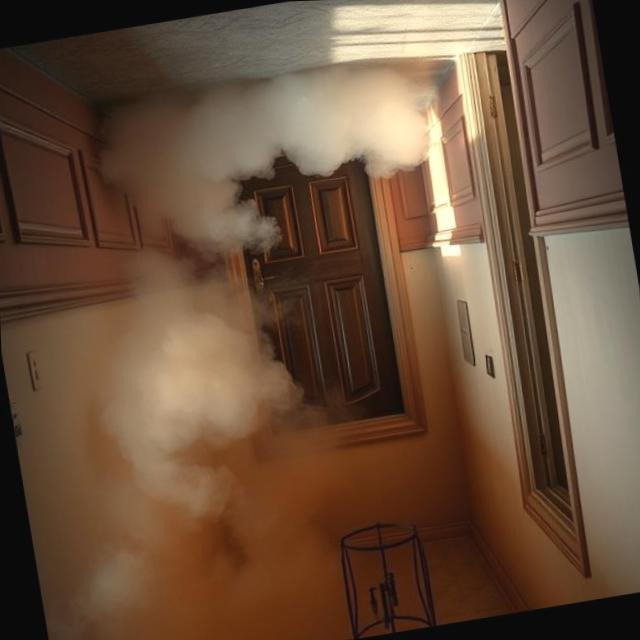smoke: (6, 28, 526, 610)
